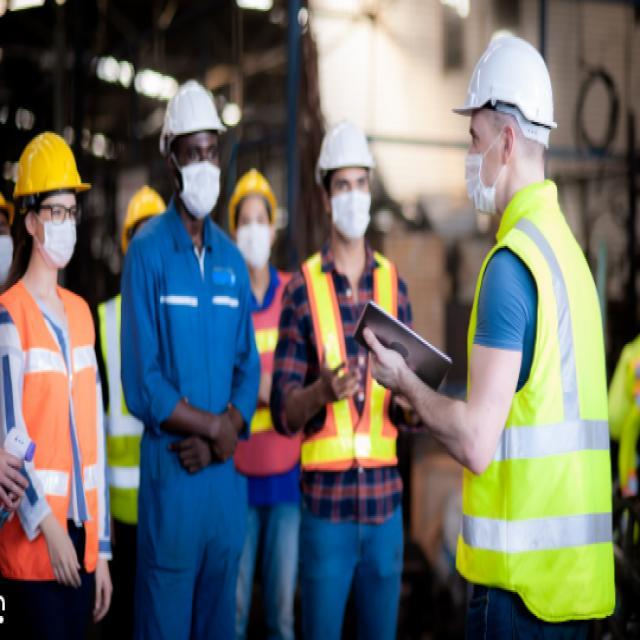helmet: (455, 28, 555, 208), (12, 128, 92, 276), (159, 74, 227, 226), (312, 126, 378, 244), (229, 165, 280, 283), (121, 191, 172, 280), (0, 172, 14, 294)
vest: (455, 178, 622, 631), (0, 277, 104, 588), (291, 246, 412, 481), (97, 281, 197, 538), (219, 269, 309, 481)
